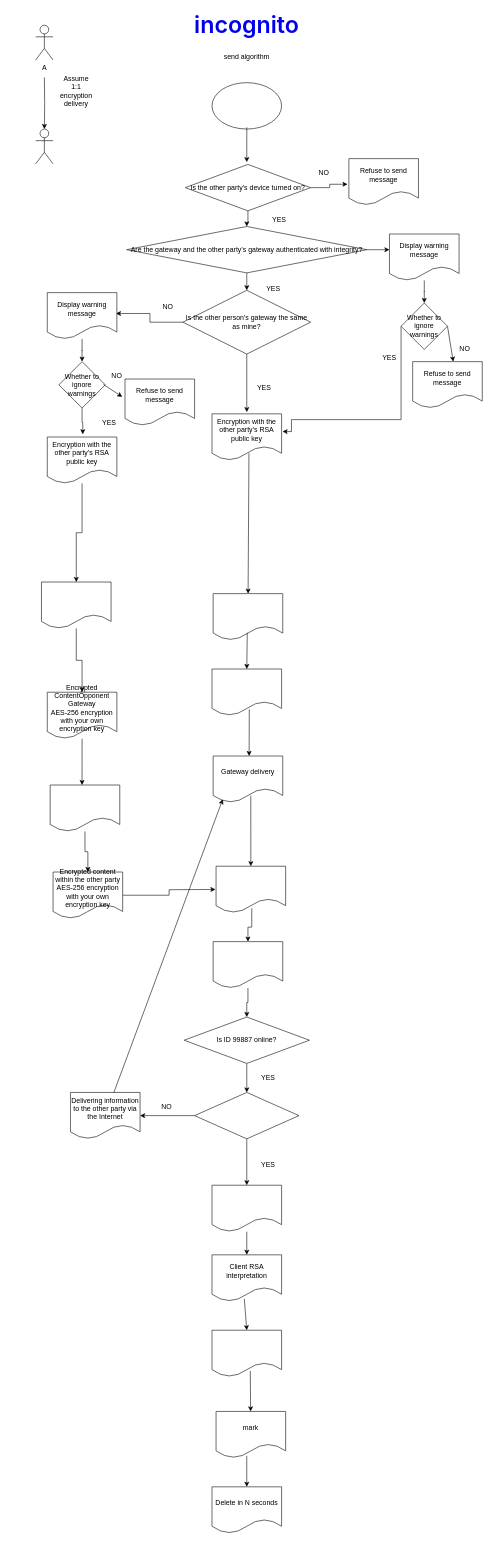
This 492x1543 diagram has some shape labels left out. Here are the shapes that lost their labels. From the top down, the centre of each, then its label:
At point (246, 105): "Send “This is a test” to ID 99887".
At point (44, 146): "B(temporary id 99887)".
At point (76, 604): "Encrypted content is encrypted with the other party’s gateway public key".
At point (248, 616): "Encrypted content encrypted with server public key".
At point (246, 691): "Encrypted content AES-256 encryption with your own encryption key".
At point (85, 807): "Encrypted contents using Gateway public key".
At point (250, 889): "Gateway AES-256 encryption analysis".
At point (248, 964): "RSA interpretation".
At point (246, 1115): "Is ID 99887 currently attached to the gateway?".
At point (246, 1208): "Deliver message to client with corresponding ID".
At point (246, 1353): "Post to message RAM".
